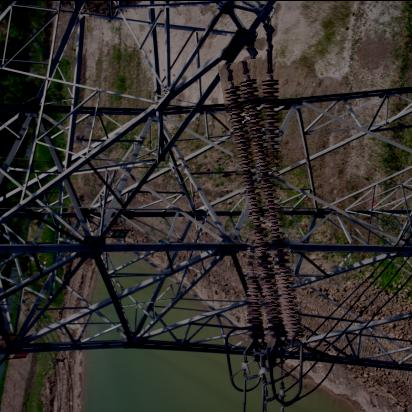insulator: (232, 60, 297, 352)
